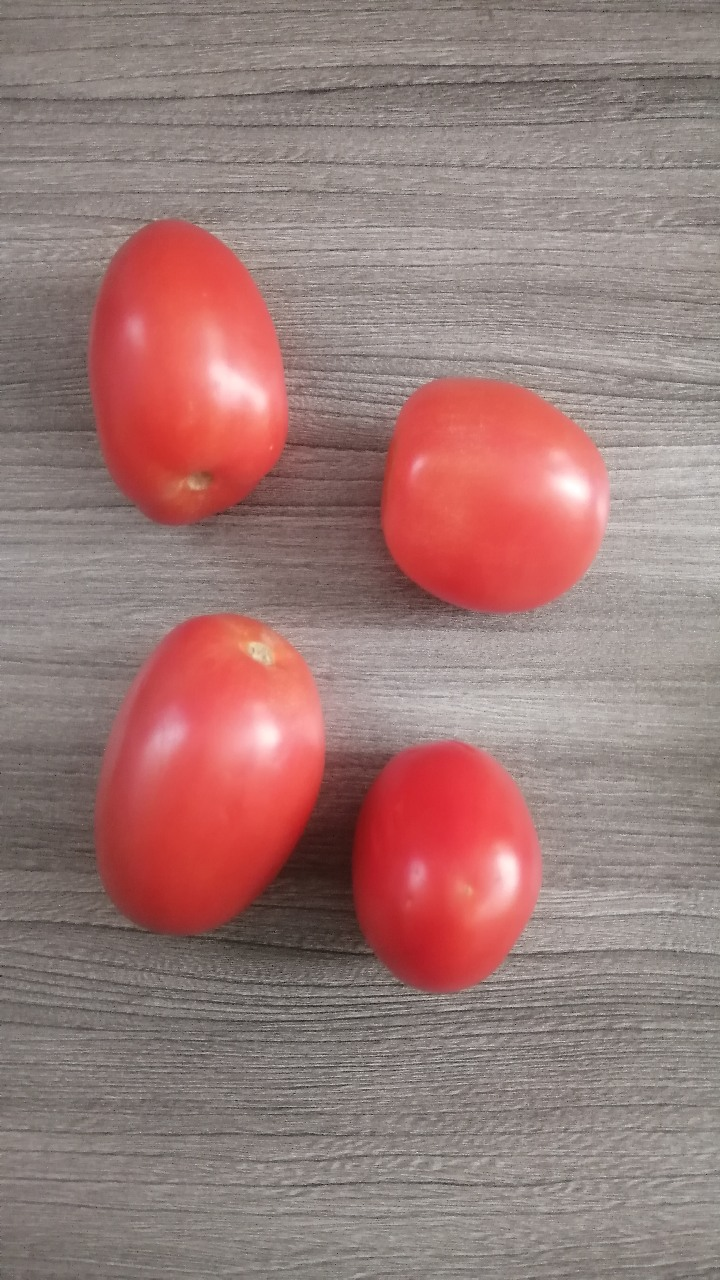tomateRojo: (66, 594, 338, 954), (58, 197, 300, 551), (364, 360, 620, 646), (340, 726, 558, 1006)
